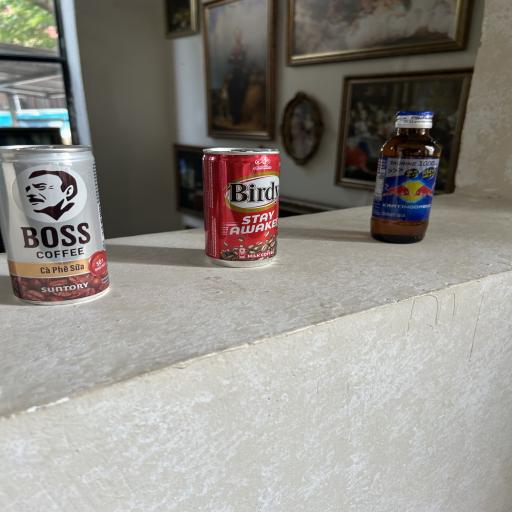birdy: (196, 144, 284, 267)
bo_huc: (369, 108, 446, 245)
boss_coffee: (1, 140, 122, 312)
